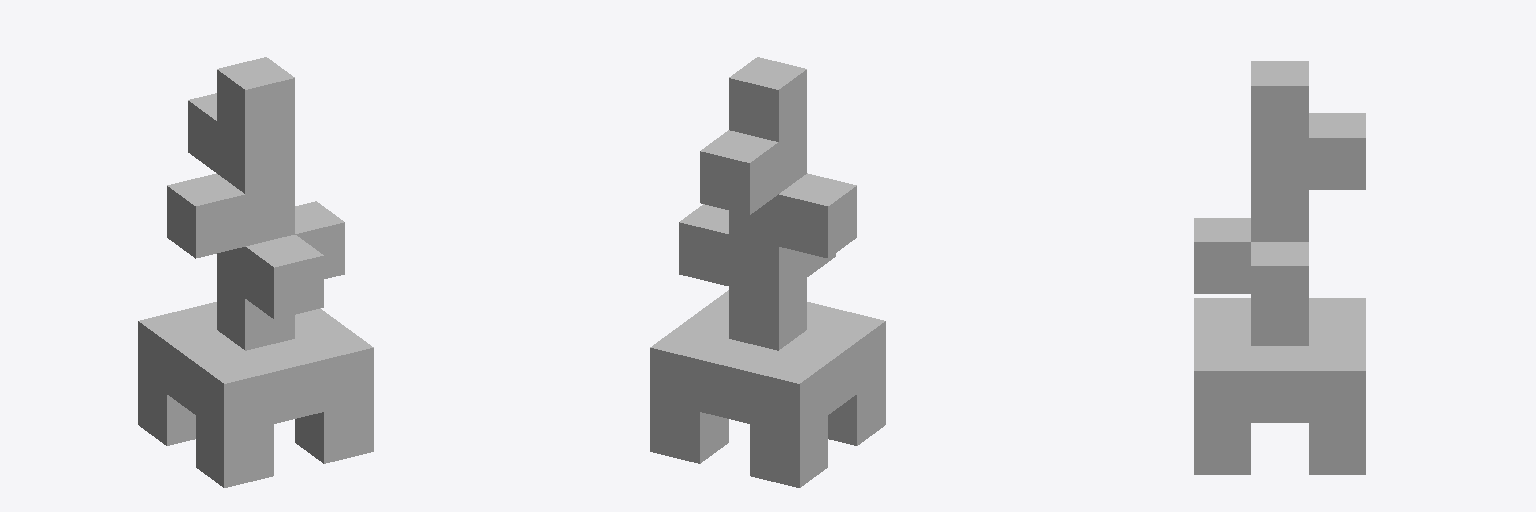
File: cactus.obj
The picture shows the model from 3 angles: view 1: azimuth 30°, elevation 25°; view 2: azimuth 150°, elevation 25°; view 3: azimuth 270°, elevation 25°; orthographic projection.
Parts seen in each view (by area): view 1: object 1; view 2: object 1; view 3: object 1.
Boxes of the visible parts, x1=… form: object 1: x1=138, y1=57, x2=373, y2=487; object 1: x1=650, y1=57, x2=885, y2=487; object 1: x1=1194, y1=61, x2=1365, y2=474.
Size of the model in its own units: 0.3 by 0.7 by 0.3.